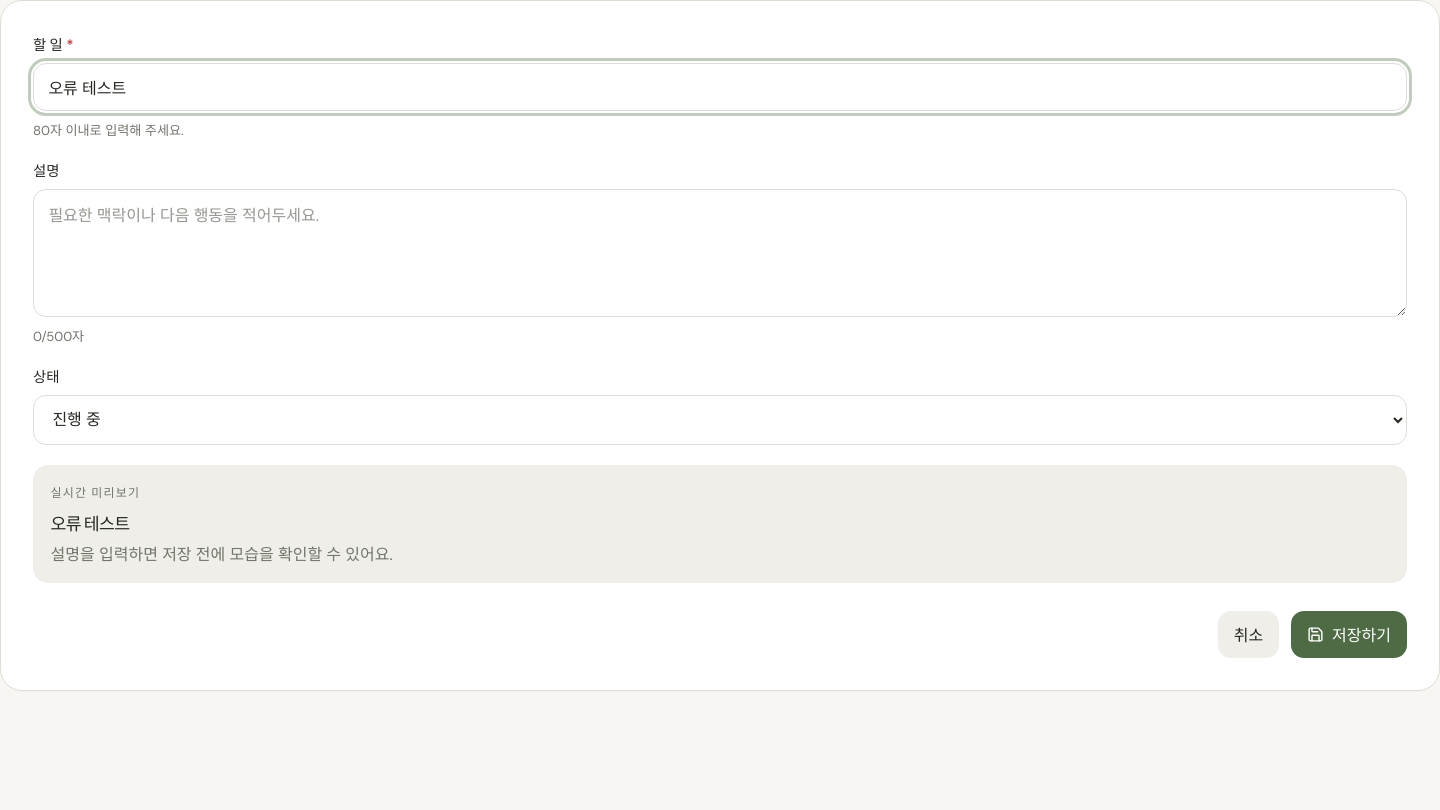
TodoForm › 저장 실패 메시지를 화면 상단에 표시한다
Click the button "저장하기": (1349, 634) x1=1291 y1=610 x2=1407 y2=658
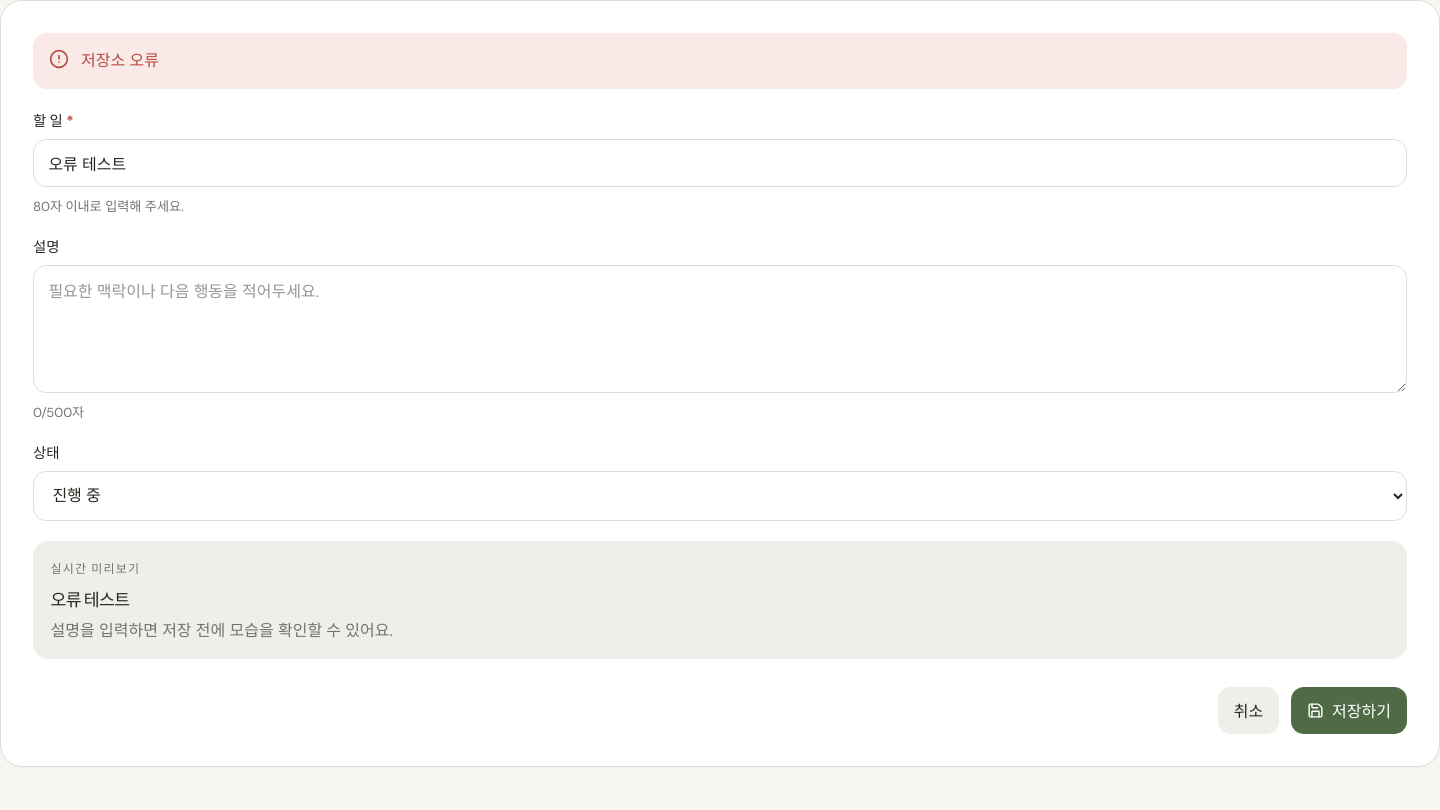
Now the message reads "저장소 오류", box x1=81 y1=50 x2=159 y2=71
